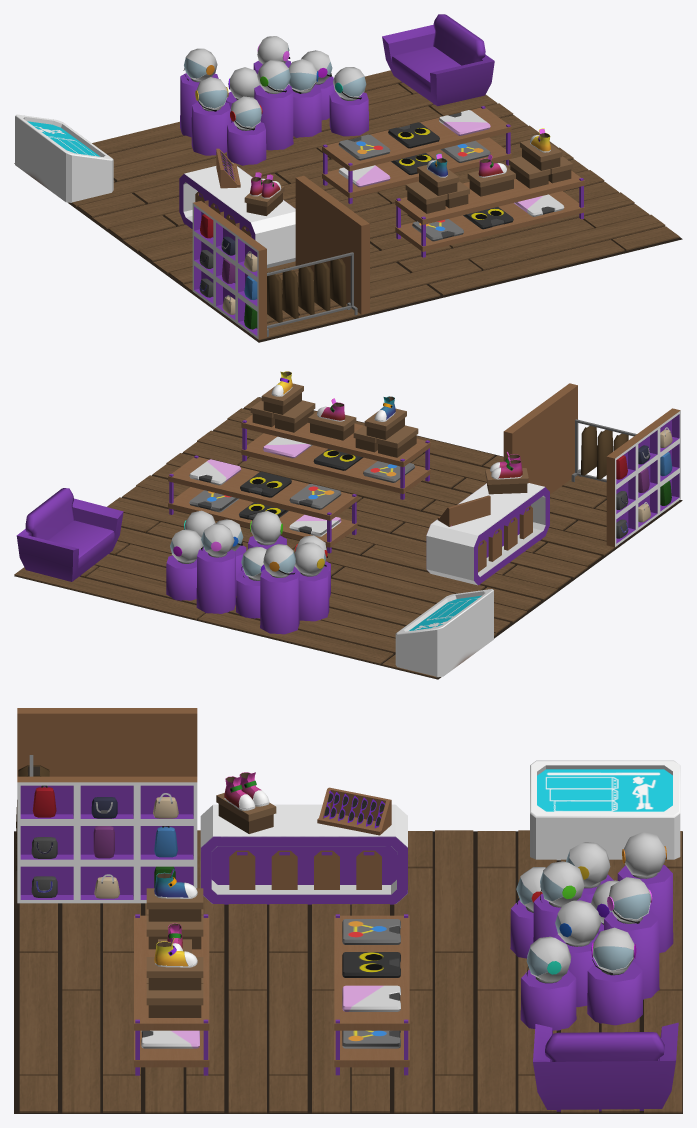
The model's file is Clothing_Tile.fbx.
3 views of the same model, one above another, from view 1: azimuth 30°, elevation 25°; view 2: azimuth 150°, elevation 25°; view 3: azimuth 270°, elevation 25° (orthographic). The views are drawn at different scales.
Visible parts, largest first — view 1: Box056, Object068, Object067, Object075, Object071, Object074, Object069, Object070, Object072, Object073; view 2: Box056, Object068, Object067, Object074, Object075, Object071, Object069, Object070, Object072, Object073; view 3: Box056, Object068, Object074, Object072, Object067, Object070, Object071, Object075, Object069.
Boxes of the visible parts, <box> form: Box056: <box>14,70,682,342</box>; Object068: <box>180,36,368,165</box>; Object067: <box>395,128,584,257</box>; Object075: <box>322,106,511,203</box>; Object071: <box>192,201,266,339</box>; Object074: <box>179,148,295,268</box>; Object069: <box>382,14,494,106</box>; Object070: <box>15,114,113,202</box>; Object072: <box>295,175,369,314</box>; Object073: <box>267,252,357,336</box>; Box056: <box>14,397,682,679</box>; Object068: <box>166,510,330,634</box>; Object067: <box>241,371,430,499</box>; Object074: <box>426,451,549,585</box>; Object075: <box>168,455,357,553</box>; Object071: <box>606,408,680,547</box>; Object069: <box>16,488,123,581</box>; Object070: <box>395,589,493,677</box>; Object072: <box>503,383,577,494</box>; Object073: <box>571,419,636,482</box>; Box056: <box>14,830,682,1113</box>; Object068: <box>510,832,673,1030</box>; Object074: <box>200,772,407,904</box>; Object072: <box>17,776,197,903</box>; Object067: <box>134,868,209,1075</box>; Object070: <box>530,760,680,860</box>; Object071: <box>17,708,197,776</box>; Object075: <box>334,914,409,1075</box>; Object069: <box>533,1022,678,1111</box>.
Size of the model in its own units: 353 by 72.03 by 350.
